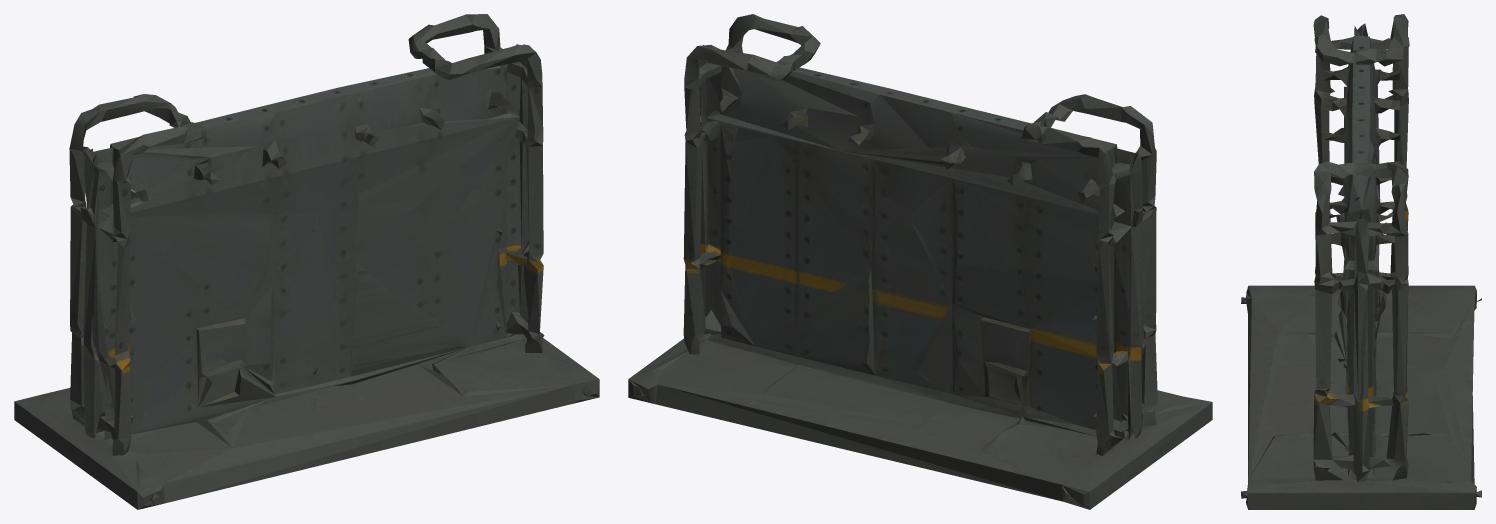
The model's file is wall_segment.glb.
3 views of the same model, side by side, from view 1: azimuth 30°, elevation 25°; view 2: azimuth 150°, elevation 25°; view 3: azimuth 270°, elevation 25° (orthographic). The views are drawn at different scales.
Size of the model in its own units: 4.35 by 3 by 2.14.
1 material, 1 textured.
